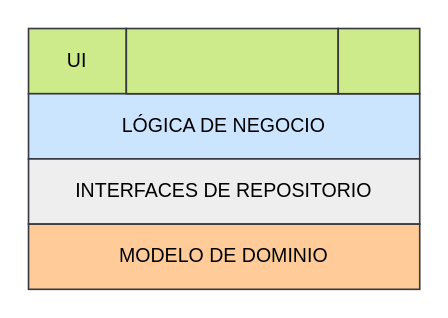
This 448x318 diagram has some shape labels left out. Each missing label, with the box of its shape:
INFRAESTRUCTURA: (125, 27, 338, 94)
TESTS: (337, 27, 420, 94)
